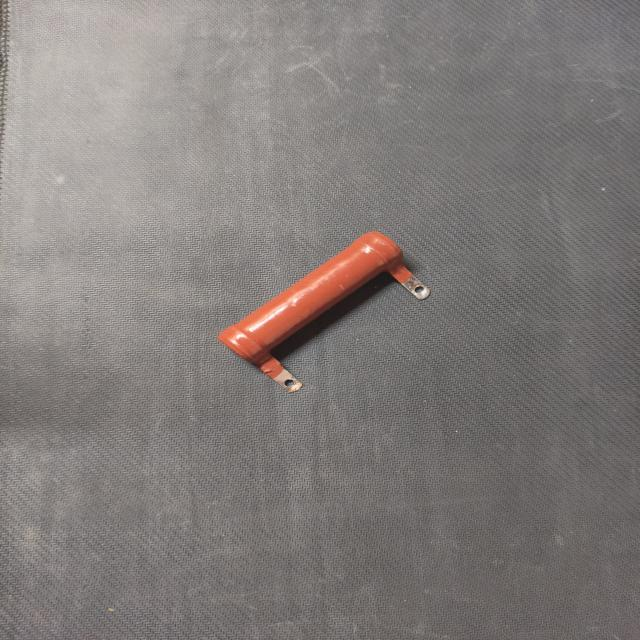resistor: (208, 225, 436, 397)
